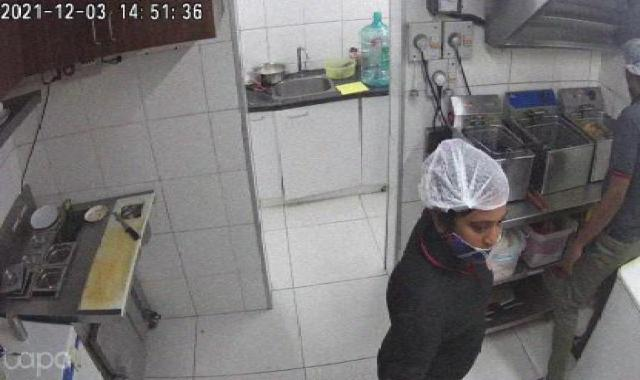hairnet: (411, 136, 521, 222)
